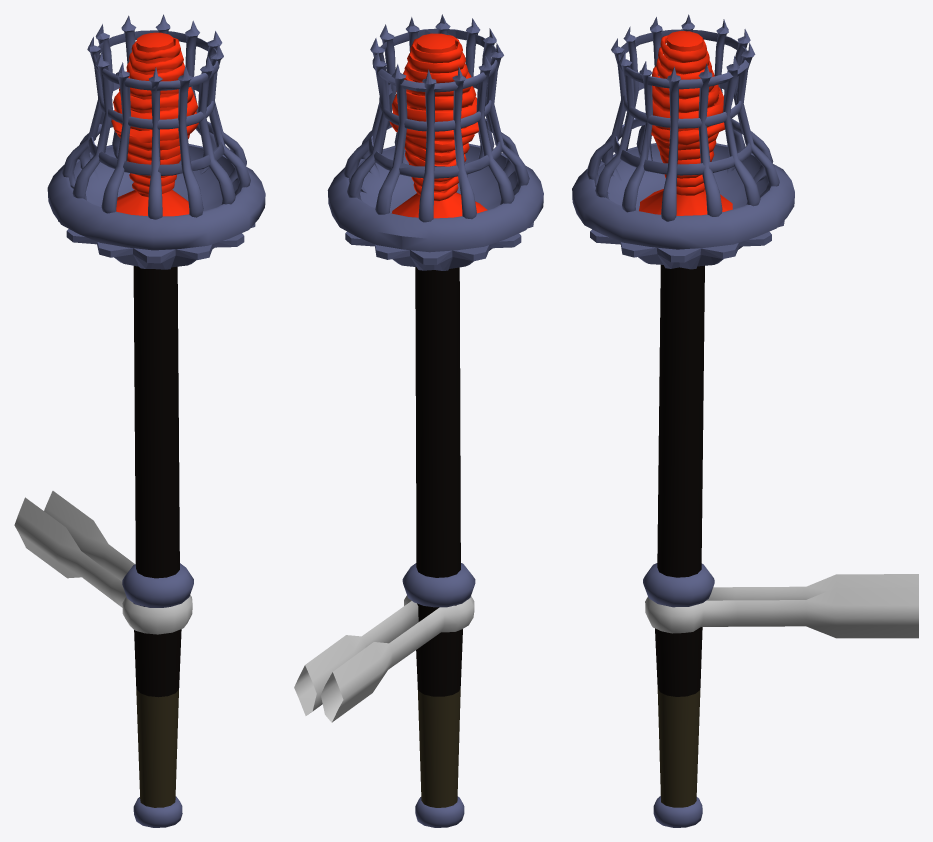
File: TorchWall_14.fbx
3 renders of one model, left to right at view 1: azimuth 30°, elevation 25°; view 2: azimuth 150°, elevation 25°; view 3: azimuth 270°, elevation 25°, orthographic.
Parts seen in each view (by area): view 1: TorchWall_14; view 2: TorchWall_14; view 3: TorchWall_14.
Boxes of the visible parts, x1,y1,x2,y2 form: TorchWall_14: (14,14,265,827); TorchWall_14: (294,14,543,827); TorchWall_14: (572,14,918,827).
Size of the model in its own units: 21.46 by 34.5 by 86.74.
